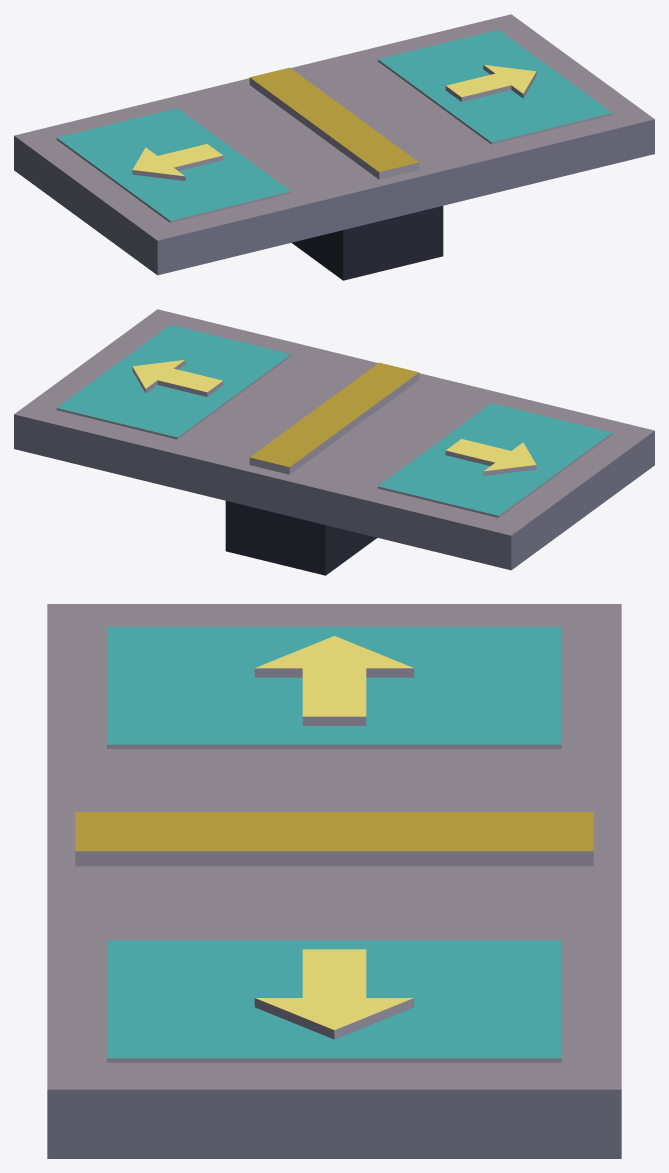
The model's file is star_garden_seesaw_platform.obj.
The picture shows the model from 3 angles, top to bottom: view 1: azimuth 30°, elevation 25°; view 2: azimuth 150°, elevation 25°; view 3: azimuth 270°, elevation 25°; orthographic projection. The views are drawn at different scales.
Visible parts, largest first — view 1: star_garden_seesaw_platform; view 2: star_garden_seesaw_platform; view 3: star_garden_seesaw_platform.
Boxes of the visible parts, box(x1,y1,x2,y2) form: star_garden_seesaw_platform: box(14, 14, 654, 280); star_garden_seesaw_platform: box(14, 309, 654, 575); star_garden_seesaw_platform: box(47, 604, 621, 1158).
Size of the model in its own units: 14.4 by 2.92 by 7.2.
